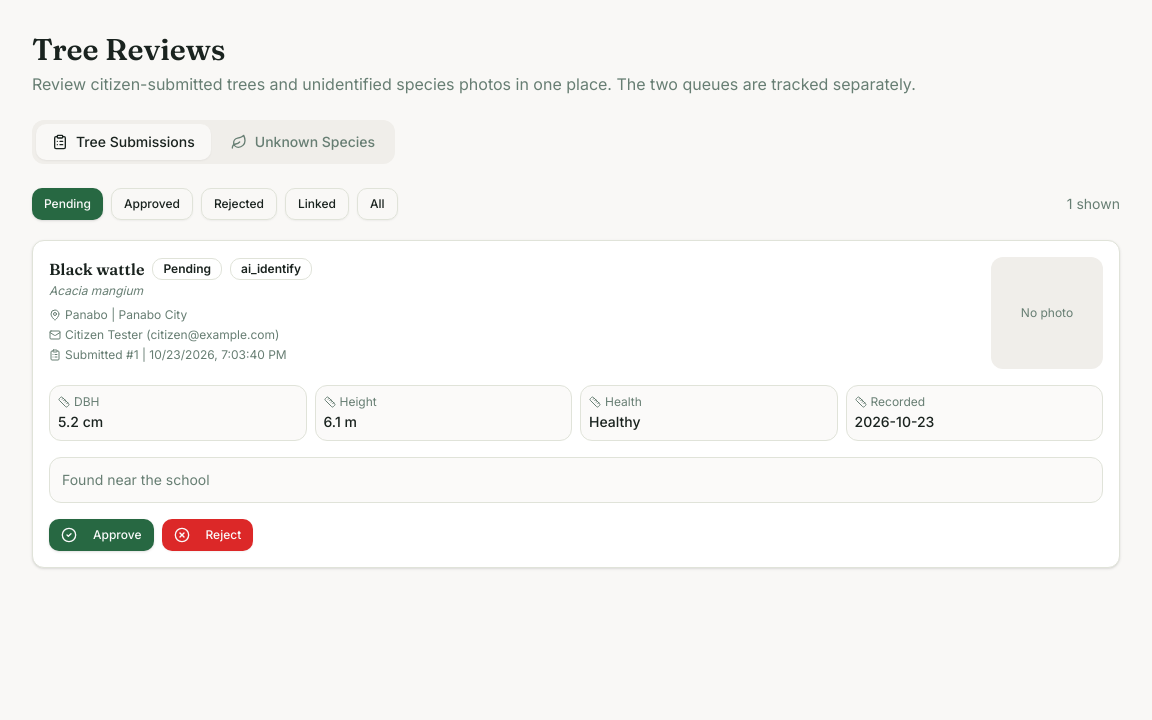
reject flow (mocked - reason required) › reject opens a reason box and the confirm stays disabled until filled
Expected: the heading "Black wattle" is shown, [49,257,144,281]
Click the button "Reject": click(207, 535) [162,519,253,551]
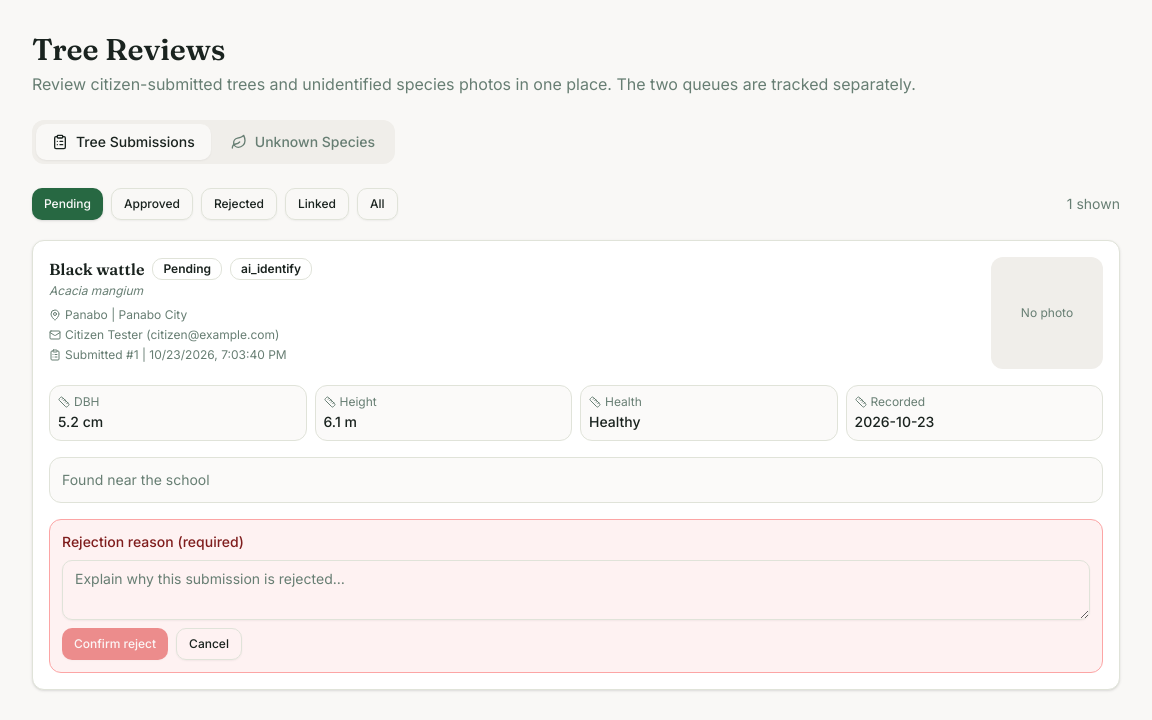
Expected: the text "Rejection reason (required)" is shown, [62,533,244,550]
Expected: the button "Confirm reject" is disabled, [62,628,168,660]
